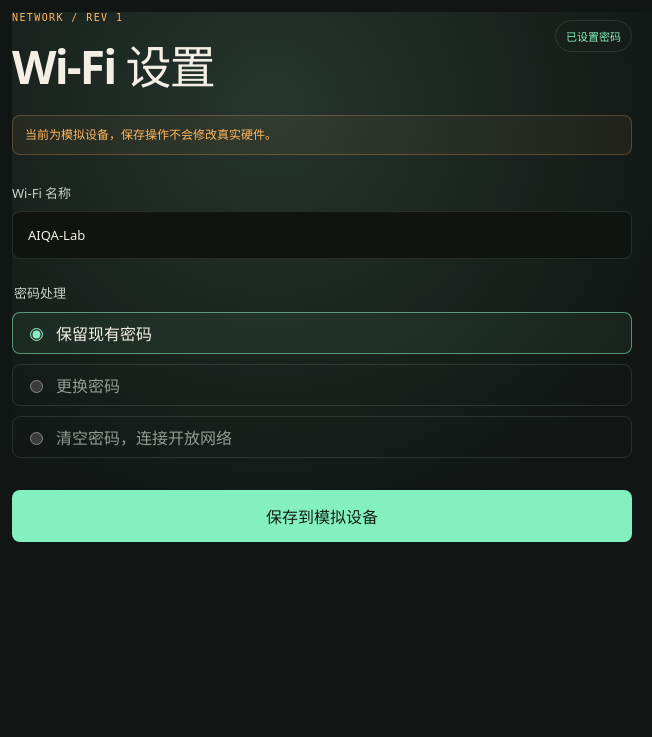
Test: WifiSettings › shows validation feedback without sending an invalid password
expect the field showing "AIQA-Lab" is shown: met, box [12, 211, 632, 259]
Click the radio button labelled "更换密码" at (36, 386), box [30, 380, 43, 393]
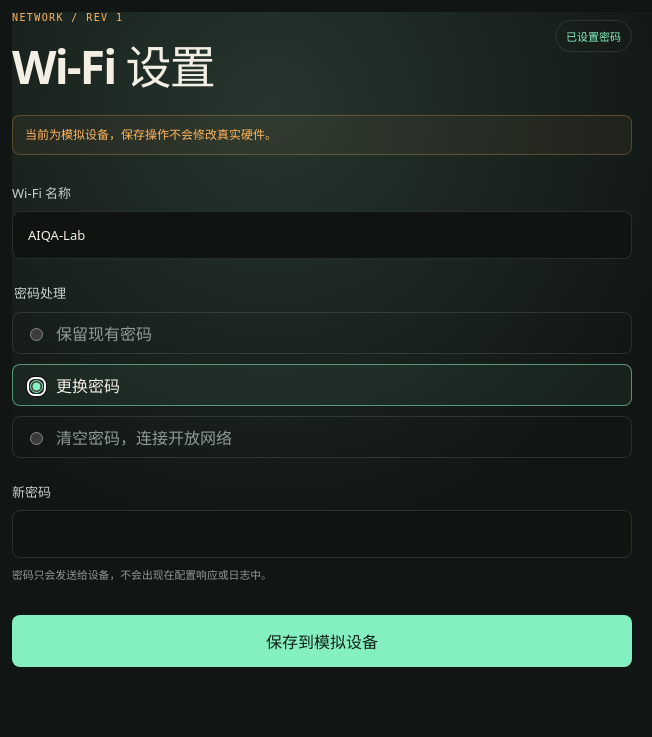
Type "short" into the password field labelled "新密码 密码只会发送给设备，不会出现在配置响应或日志中。" at (322, 534), box [12, 510, 632, 558]
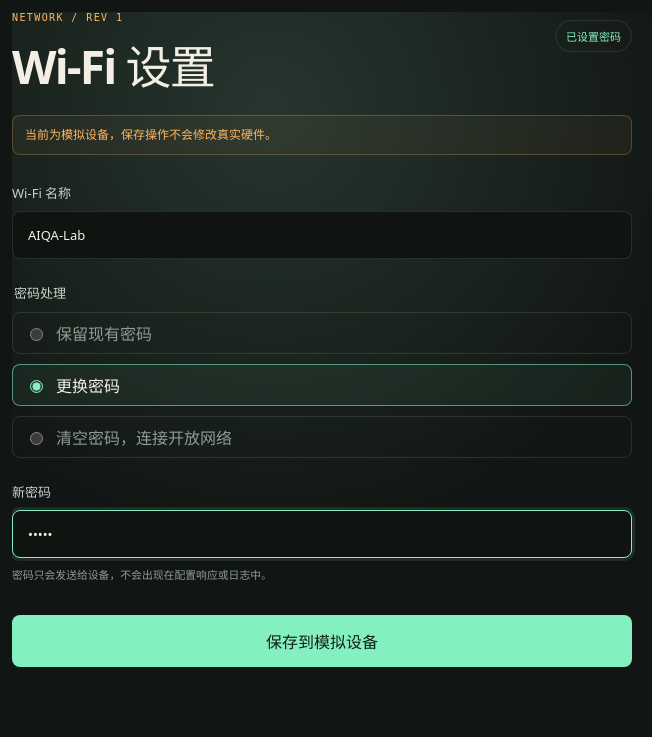
Click the button "保存到模拟设备" at (322, 641), box [12, 615, 632, 667]
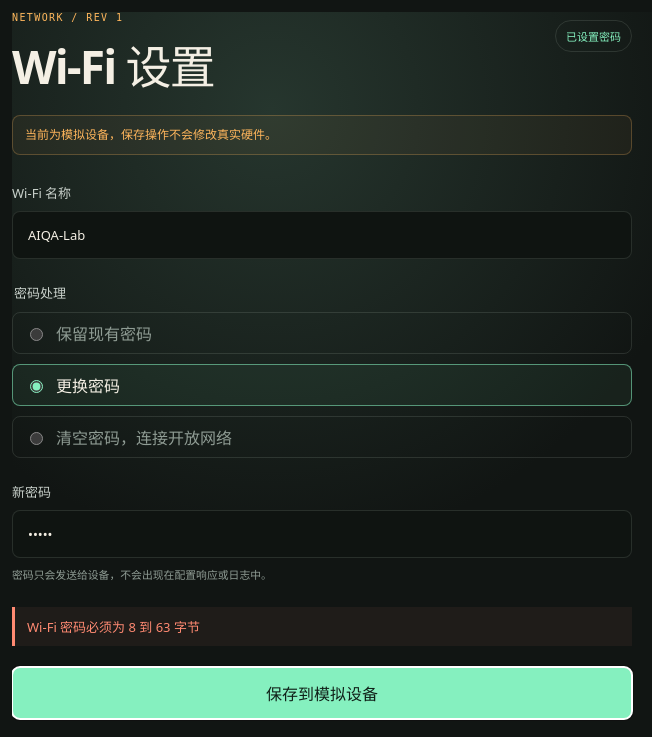
expect the message shows "8 到 63": met, box [27, 618, 200, 636]
